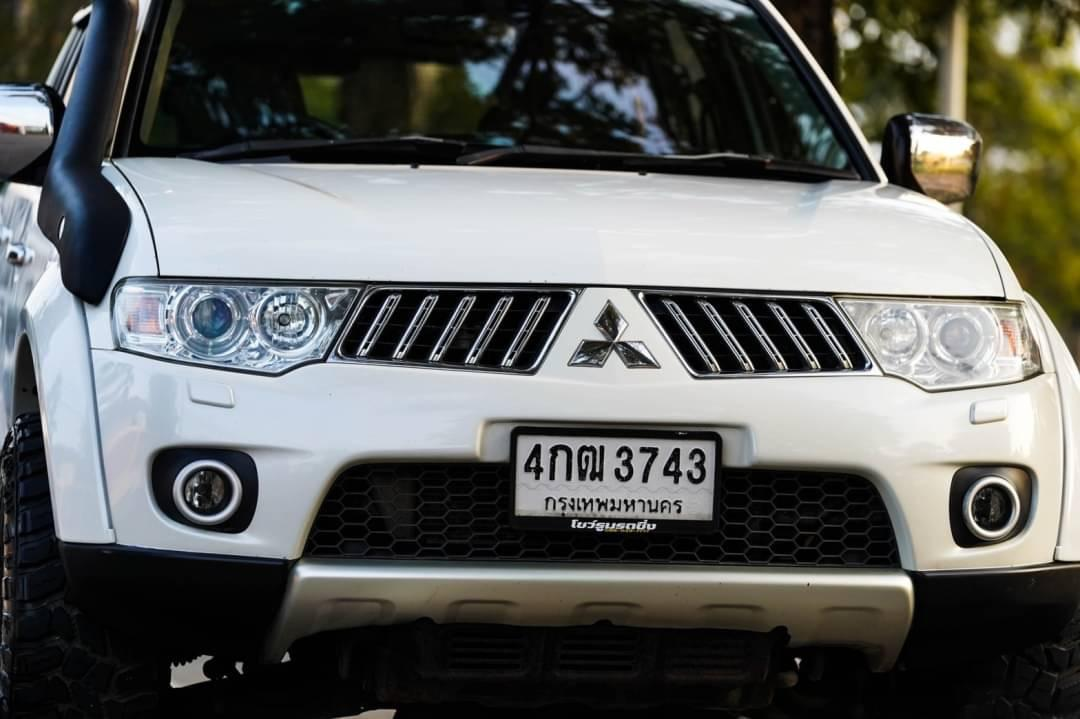license-plate: (503, 425, 729, 541)
